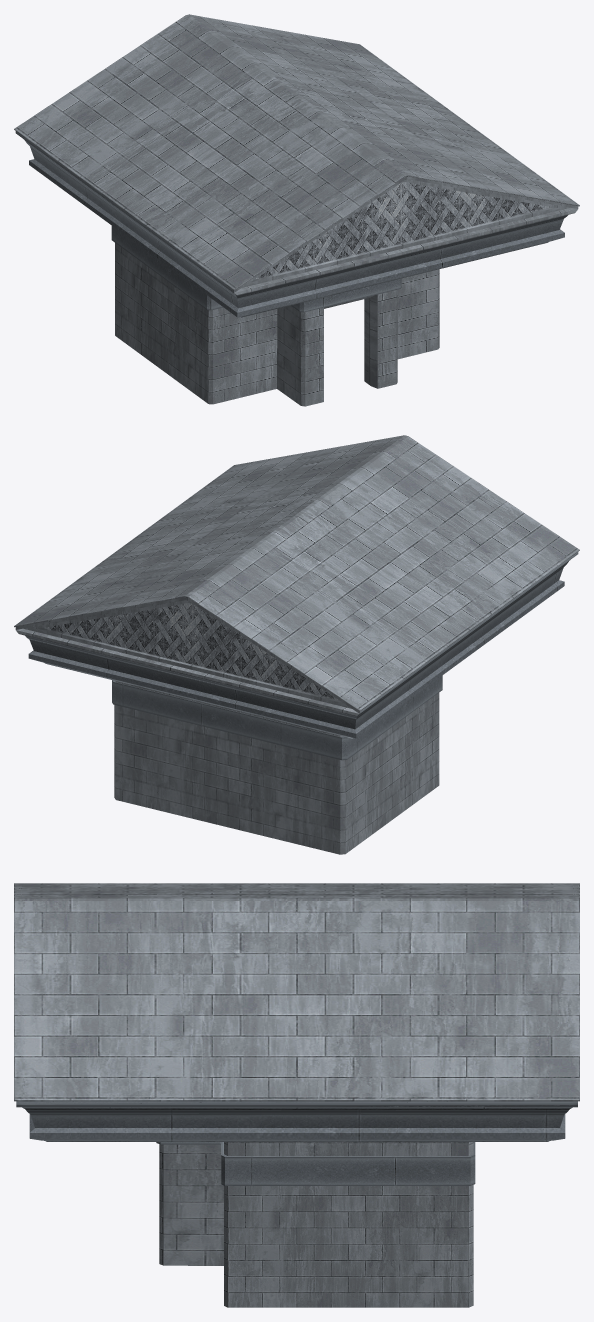
The model's file is SM_Temple_Structure.fbx.
The picture shows the model from 3 angles, top to bottom: view 1: azimuth 30°, elevation 25°; view 2: azimuth 150°, elevation 25°; view 3: azimuth 270°, elevation 25°; orthographic projection. The views are drawn at different scales.
Visible parts, largest first — view 1: SM_Temple_Structure_Roof, SM_Temple_Structure_Building; view 2: SM_Temple_Structure_Roof, SM_Temple_Structure_Building; view 3: SM_Temple_Structure_Roof, SM_Temple_Structure_Building.
Boxes of the visible parts, bbox=[...] form: SM_Temple_Structure_Roof: bbox=[14, 14, 579, 317]; SM_Temple_Structure_Building: bbox=[111, 226, 439, 406]; SM_Temple_Structure_Roof: bbox=[14, 435, 579, 738]; SM_Temple_Structure_Building: bbox=[112, 675, 442, 854]; SM_Temple_Structure_Roof: bbox=[14, 883, 579, 1141]; SM_Temple_Structure_Building: bbox=[156, 1142, 475, 1307].
Bounding box in the file's own units: 1967 × 1417 × 2166.
